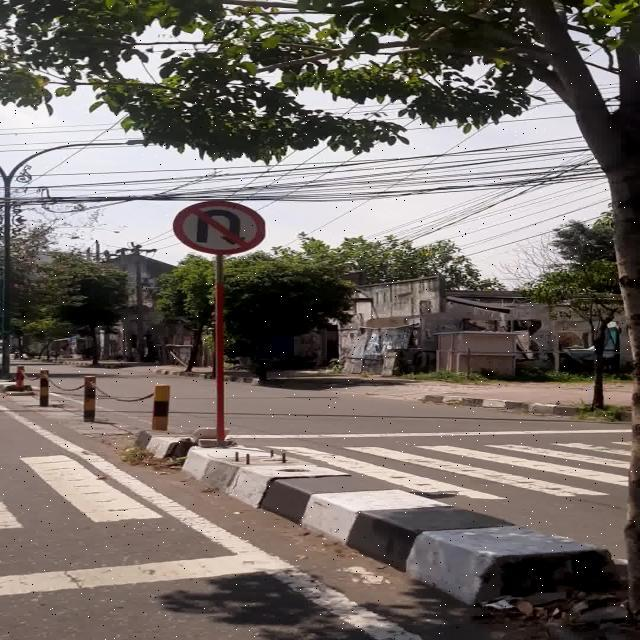Dilarang Putar Balik: (174, 200, 266, 254)
